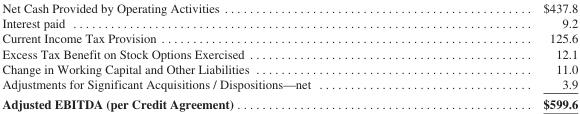table: (1, 0, 577, 110)
table column: (1, 0, 426, 110), (426, 0, 577, 110)
table row: (1, 76, 577, 93), (1, 93, 577, 110), (1, 60, 577, 76), (1, 0, 577, 15), (1, 15, 577, 30), (1, 30, 577, 45), (1, 45, 577, 60)
